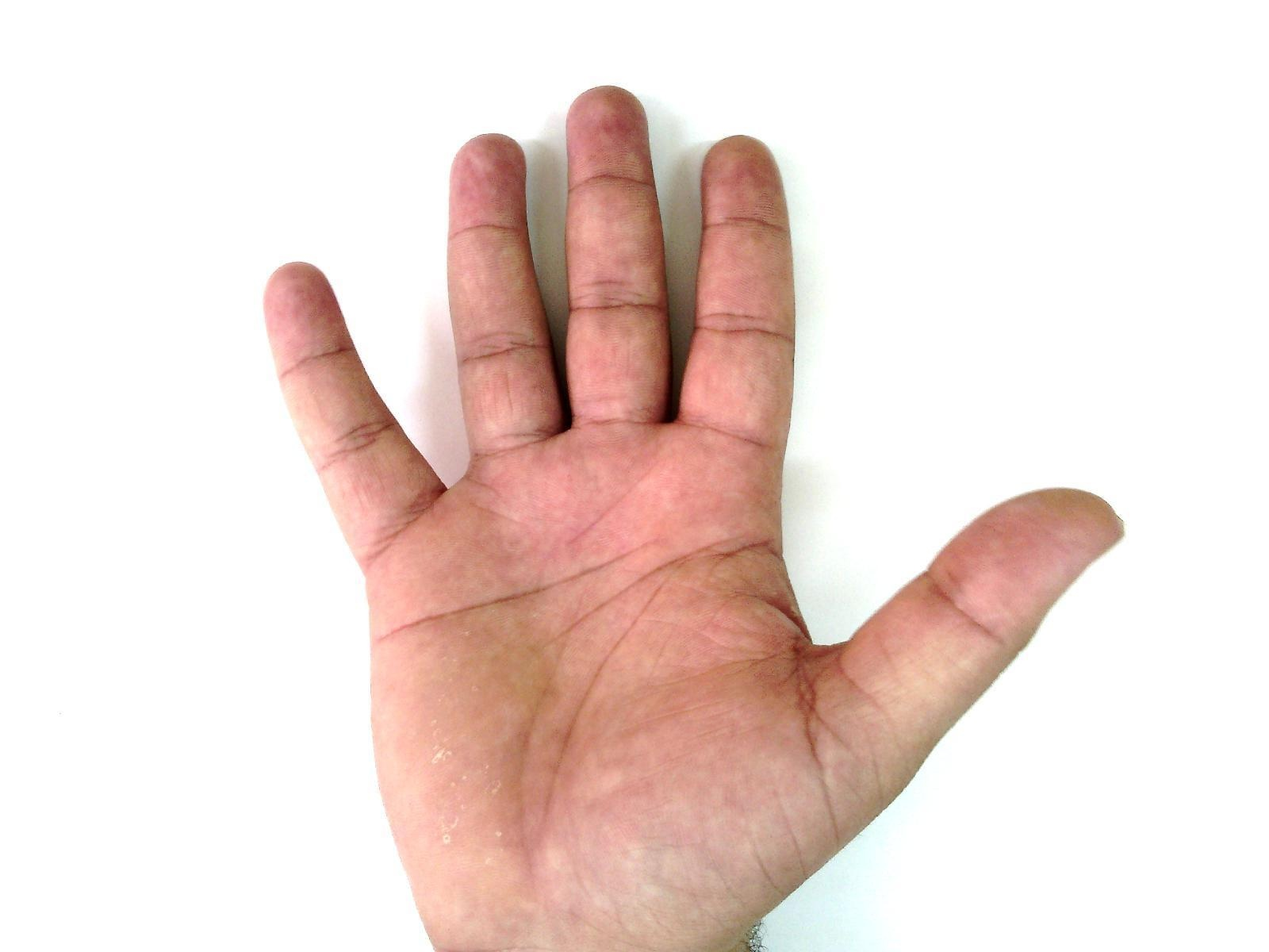open_palm: (259, 83, 1127, 951)
